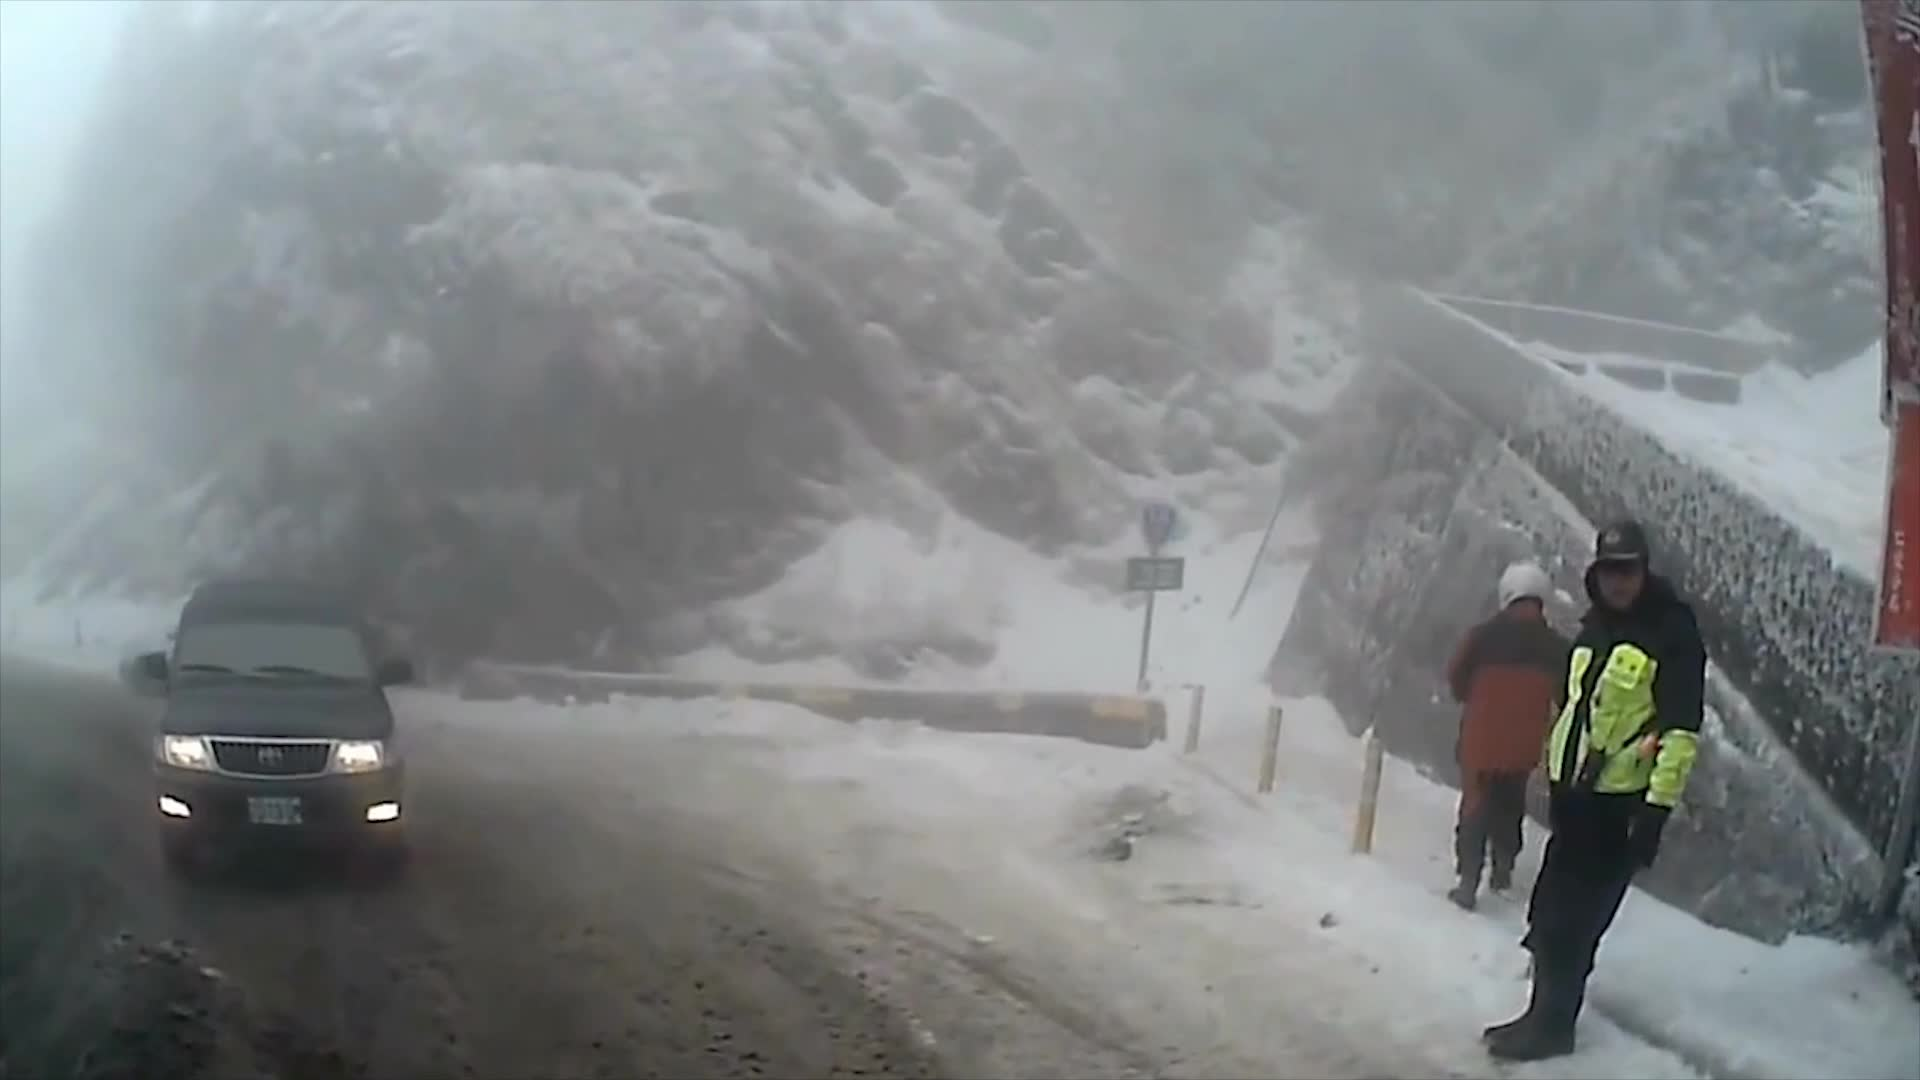pedestrian: (1491, 525, 1716, 1065), (1453, 560, 1584, 902)
vehicle: (140, 579, 413, 878)
